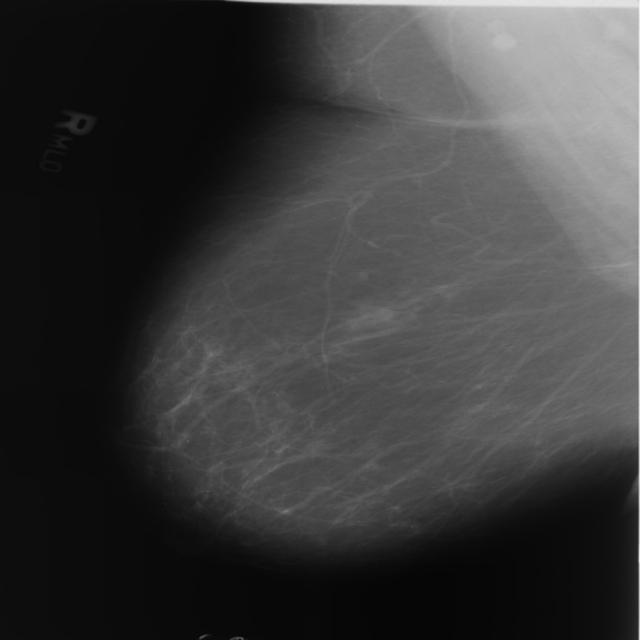tumour: (342, 304, 392, 330)
